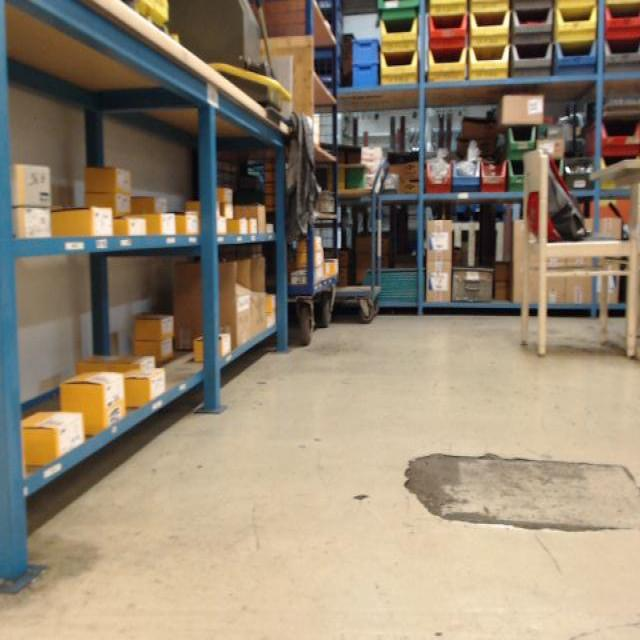small_load_carrier: (352, 39, 382, 67), (352, 68, 382, 88)
